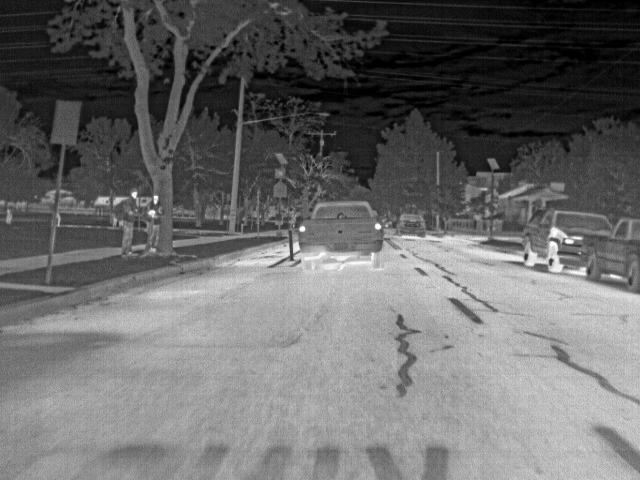car: (296, 198, 386, 269), (579, 214, 640, 292), (524, 207, 583, 275), (395, 213, 426, 238), (582, 213, 611, 233)
person: (117, 188, 140, 258), (144, 192, 163, 254), (4, 207, 13, 226)
